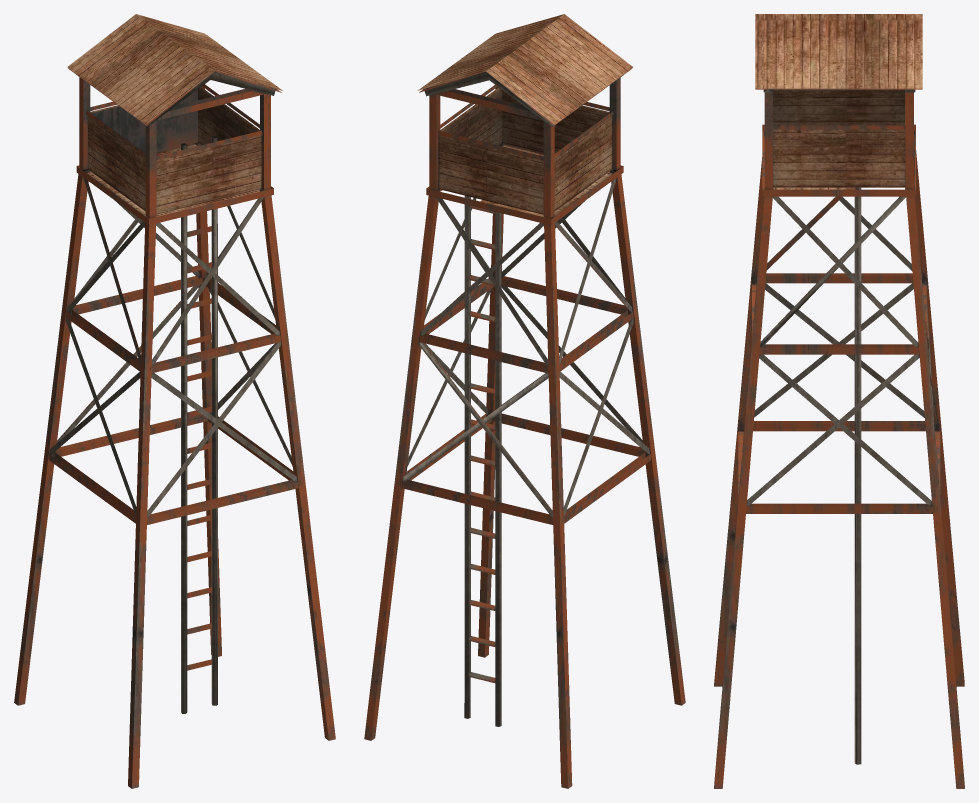
Rendered from base_wood_tower.glb.
3 renders of one model, left to right at view 1: azimuth 30°, elevation 25°; view 2: azimuth 150°, elevation 25°; view 3: azimuth 270°, elevation 25°, orthographic. The views are drawn at different scales.
Parts seen in each view (by area): view 1: base_wood_tower; view 2: base_wood_tower; view 3: base_wood_tower.
Part boxes in pixels (x1,y1,x2,y2): base_wood_tower: (14, 14, 335, 788); base_wood_tower: (364, 14, 685, 788); base_wood_tower: (714, 14, 964, 788).
Size of the model in its own units: 2.2 by 7 by 2.19.
1 material, 1 textured.
